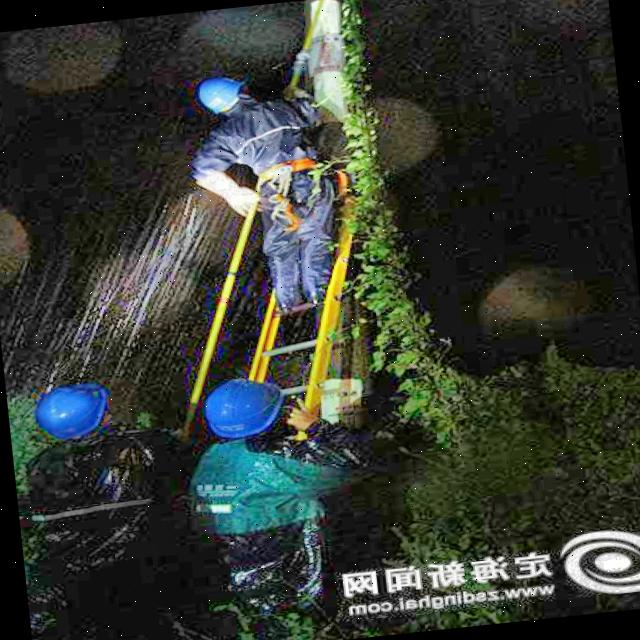helmet: (198, 376, 290, 449), (32, 381, 114, 442), (188, 70, 252, 119)
